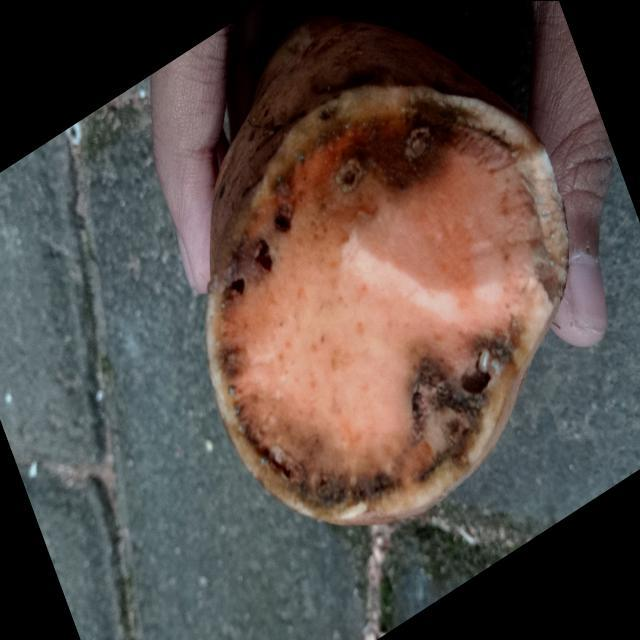Sick Sweet Potato_Tuber Rot: (206, 85, 568, 523)
